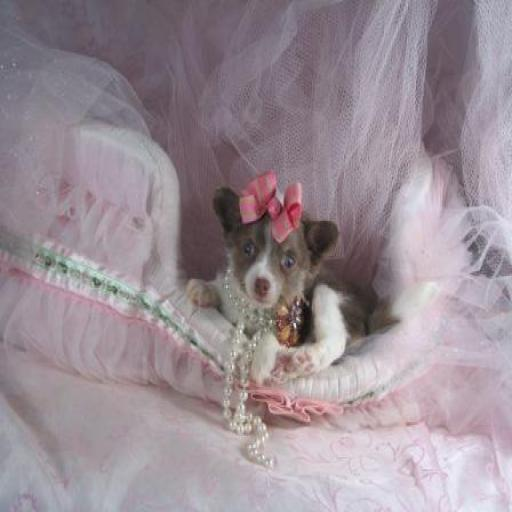dog_face: (215, 192, 338, 309)
